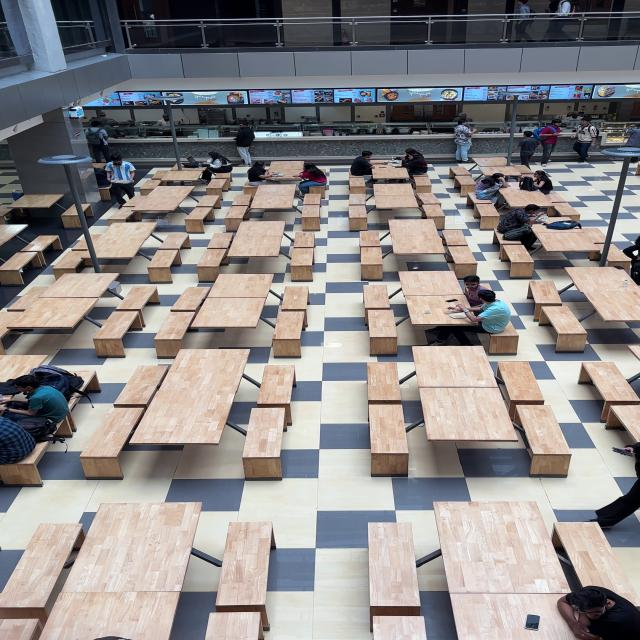Occupied: (0, 372, 98, 482), (3, 370, 84, 466), (455, 275, 524, 348), (562, 586, 638, 640), (409, 295, 480, 329), (501, 206, 547, 241), (112, 153, 145, 199), (459, 277, 495, 312), (479, 174, 514, 208), (300, 165, 332, 198), (201, 153, 239, 179), (374, 164, 414, 187), (354, 153, 381, 186), (407, 151, 434, 181), (271, 161, 310, 177), (251, 163, 274, 187), (534, 172, 556, 194), (100, 168, 119, 189)
Unoccupied: (66, 503, 208, 595), (439, 502, 573, 594), (152, 348, 256, 456), (1, 524, 87, 628), (39, 592, 190, 640), (217, 521, 279, 637), (557, 522, 639, 609), (452, 592, 594, 639), (373, 522, 425, 635), (423, 388, 525, 445), (518, 406, 576, 476), (566, 270, 640, 324), (9, 297, 111, 333), (81, 223, 165, 266), (246, 408, 292, 481), (584, 364, 640, 423), (93, 408, 145, 470), (126, 187, 201, 228), (417, 347, 503, 382), (374, 406, 415, 478), (502, 363, 552, 418), (193, 298, 273, 330), (262, 367, 302, 426), (120, 366, 177, 406), (533, 227, 609, 257), (230, 225, 292, 261), (545, 307, 595, 351), (43, 274, 127, 300), (391, 220, 451, 256), (97, 314, 145, 355), (250, 186, 302, 223), (4, 195, 70, 224), (261, 364, 310, 401), (158, 314, 202, 355), (375, 185, 424, 221), (208, 611, 268, 640), (402, 271, 468, 297), (118, 287, 163, 325), (212, 273, 280, 297), (276, 310, 311, 356), (533, 281, 569, 322), (507, 188, 561, 215), (372, 364, 406, 406), (1, 252, 46, 282), (203, 235, 239, 272), (0, 353, 53, 378), (372, 312, 403, 354), (502, 243, 539, 278), (377, 615, 428, 640), (612, 404, 640, 447), (0, 616, 49, 640), (284, 286, 314, 323), (24, 237, 66, 263), (174, 287, 216, 313), (152, 250, 185, 283), (13, 288, 57, 312), (160, 234, 194, 264), (159, 170, 208, 190), (189, 203, 222, 232), (368, 286, 396, 320), (58, 250, 94, 276), (0, 226, 32, 255), (604, 242, 637, 268), (71, 238, 100, 267), (229, 196, 257, 226), (450, 246, 482, 272), (294, 250, 319, 280), (500, 232, 531, 256), (476, 201, 504, 226), (455, 171, 481, 196), (72, 370, 104, 390), (554, 202, 586, 222), (66, 204, 97, 224), (110, 208, 142, 226), (305, 203, 325, 231), (352, 205, 372, 230), (210, 177, 232, 197), (143, 180, 170, 196), (447, 230, 472, 247), (295, 233, 320, 250), (353, 176, 371, 198), (76, 526, 91, 552), (364, 231, 386, 248), (583, 364, 600, 386), (306, 193, 327, 207), (247, 183, 264, 199), (102, 185, 120, 200), (154, 171, 178, 182)
